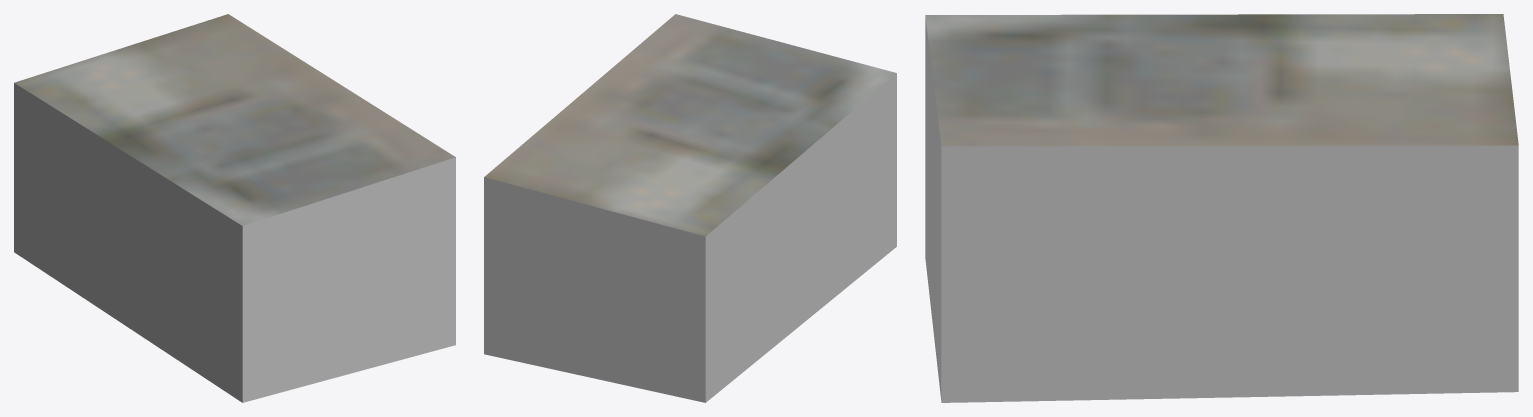
Rendered from DEBW_0010007TxdX.gltf.
3 renders of one model, left to right at view 1: azimuth 30°, elevation 25°; view 2: azimuth 150°, elevation 25°; view 3: azimuth 270°, elevation 25°, orthographic. The views are drawn at different scales.
Visible parts, largest first — view 1: Z_UP; view 2: Z_UP; view 3: Z_UP.
Part boxes in pixels (x1,y1,x2,y2): Z_UP: (14,14,455,402); Z_UP: (484,14,896,402); Z_UP: (925,14,1518,402).
Bounding box in the file's own units: 3.9 × 2.96 × 6.21.
Materials: 2 (1 with a texture image).
